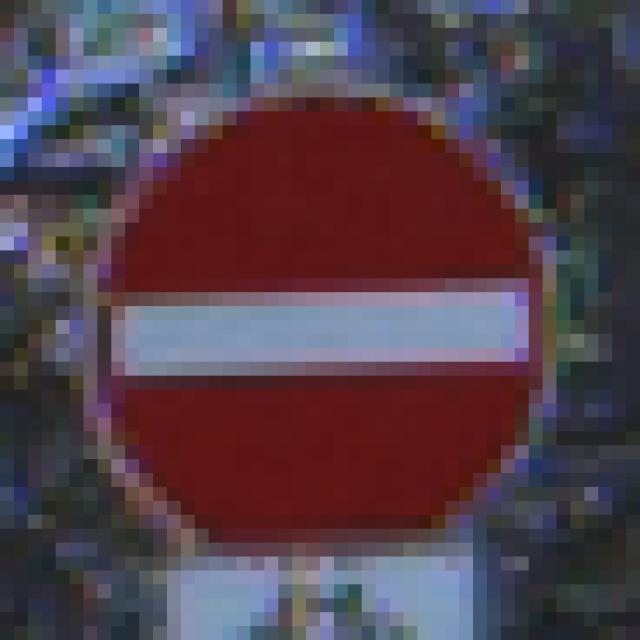No Entry: (71, 71, 572, 572)
